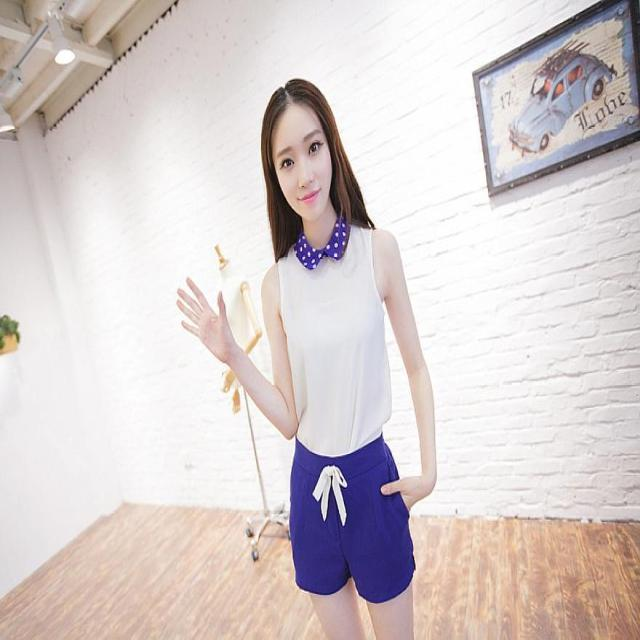shorts: (292, 438, 415, 596)
vest: (279, 219, 390, 456)
